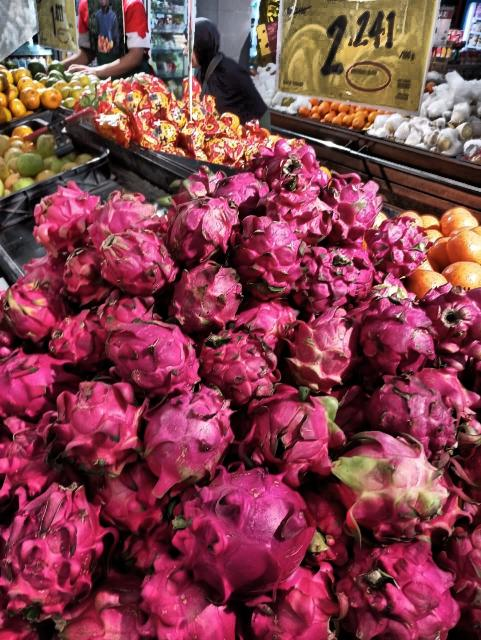buah-naga-belum-matang: (328, 429, 440, 527)
buah-naga-matang: (176, 474, 316, 588), (10, 479, 100, 621), (339, 542, 469, 638), (135, 544, 245, 640), (244, 386, 346, 479), (136, 386, 234, 482), (49, 383, 143, 472), (100, 319, 208, 395), (358, 372, 456, 450), (198, 318, 284, 397), (0, 412, 72, 492), (252, 568, 332, 640), (289, 312, 357, 396), (362, 302, 438, 376), (230, 218, 308, 290), (48, 584, 142, 640), (164, 193, 236, 264), (418, 285, 481, 365), (92, 472, 170, 536), (87, 190, 163, 248), (101, 232, 177, 288), (0, 352, 72, 410), (0, 282, 70, 341), (248, 140, 324, 194), (169, 268, 239, 324), (368, 216, 430, 278), (324, 172, 378, 242), (302, 243, 356, 310), (54, 250, 114, 306), (262, 187, 330, 236), (33, 186, 89, 234), (214, 173, 270, 211), (51, 316, 99, 360)
